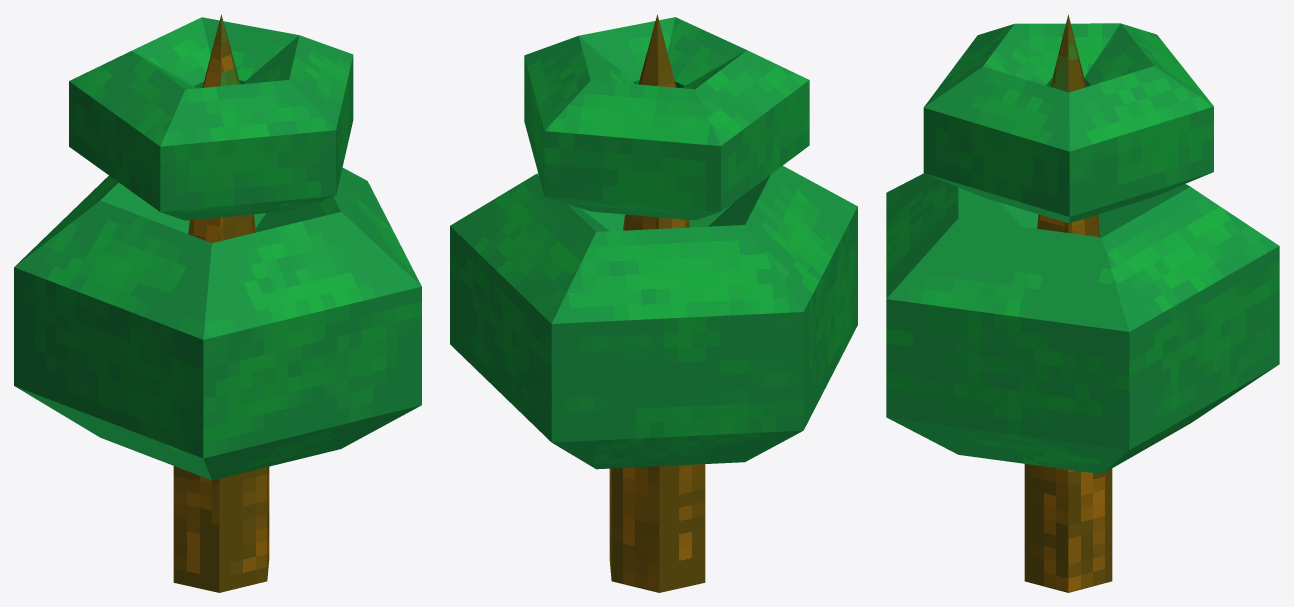
3 renders of one model, left to right at view 1: azimuth 30°, elevation 25°; view 2: azimuth 150°, elevation 25°; view 3: azimuth 270°, elevation 25°, orthographic.
Visible parts, largest first — view 1: torus (×2), body; view 2: torus (×2), body; view 3: torus (×2), body.
Part boxes in pixels (x1=…): torus (×2): x1=14, y1=17, x2=421, y2=480; body: x1=173, y1=14, x2=269, y2=592; torus (×2): x1=450, y1=17, x2=857, y2=469; body: x1=609, y1=14, x2=705, y2=592; torus (×2): x1=886, y1=23, x2=1279, y2=474; body: x1=1024, y1=14, x2=1112, y2=592.
Size of the model in its own units: 0.8719 by 1.31 by 0.8414.
Materials: 1 (1 with a texture image).
